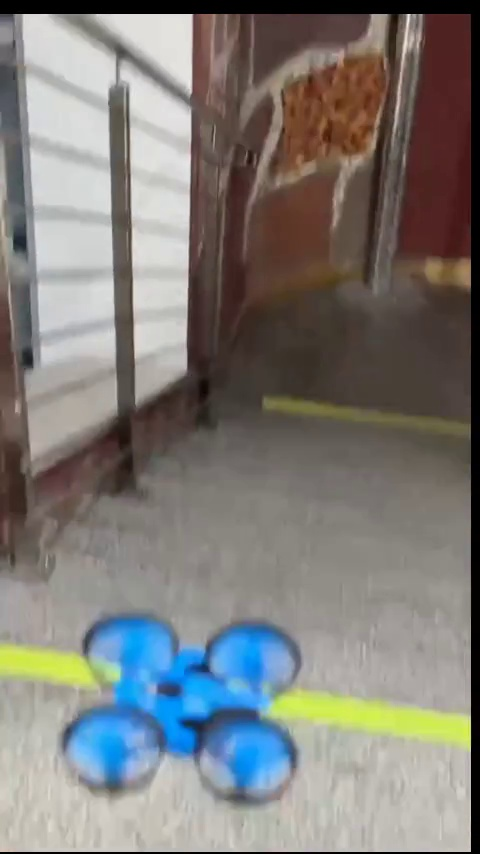drone: (68, 614, 298, 802)
